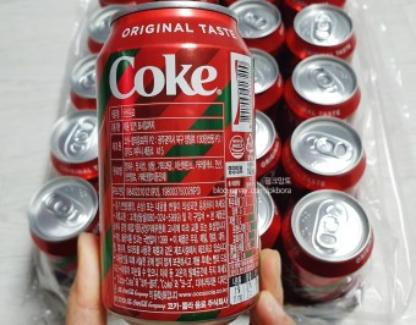Can: (94, 0, 262, 324)
